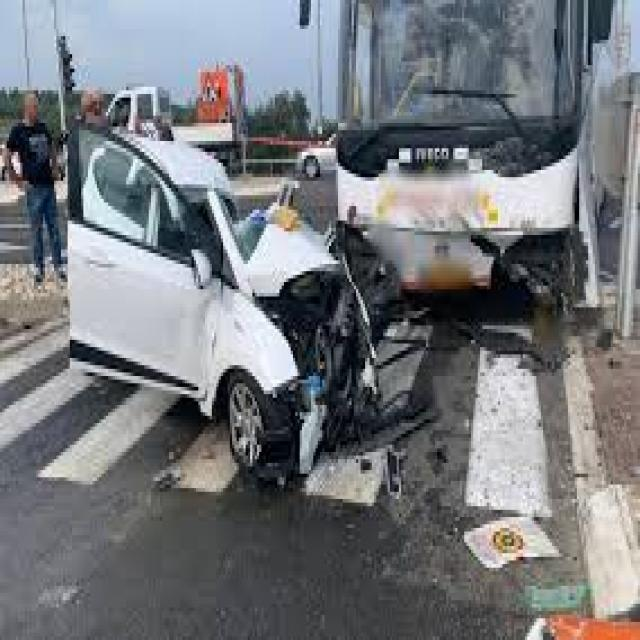accident: (68, 118, 613, 501)
